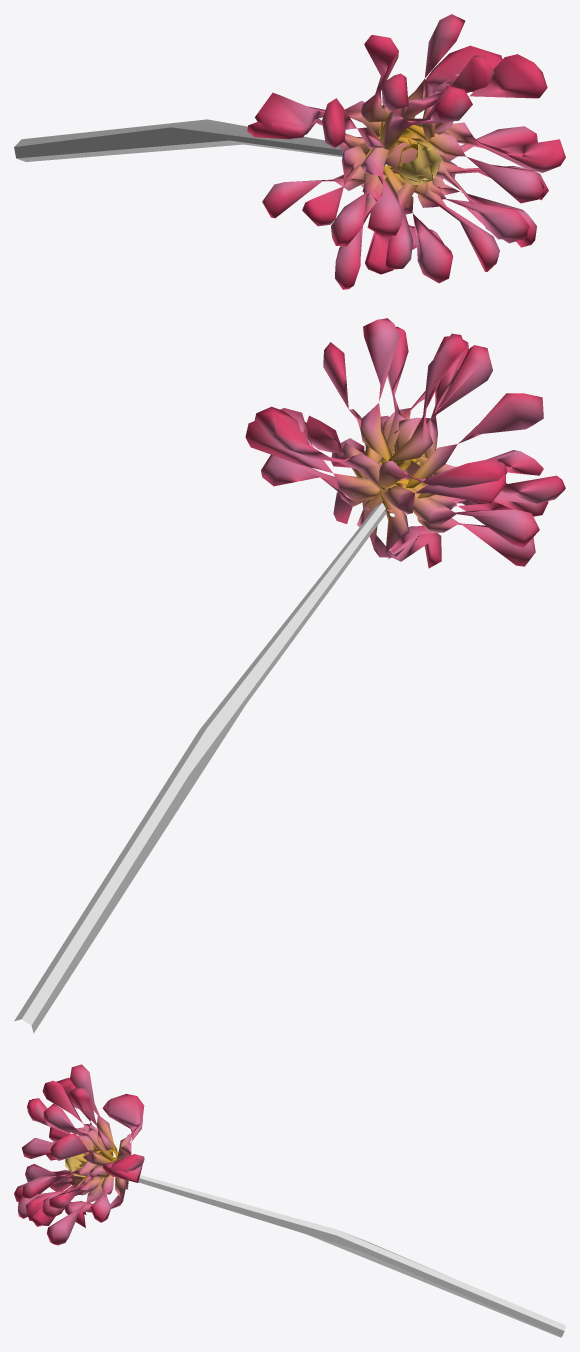
The picture shows the model from 3 angles, top to bottom: view 1: azimuth 30°, elevation 25°; view 2: azimuth 150°, elevation 25°; view 3: azimuth 270°, elevation 25°; orthographic projection. The views are drawn at different scales.
Parts seen in each view (by area): view 1: LOD 1_f2024c57-931d-5c86-9ae7-95641e97f6a6; view 2: LOD 1_f2024c57-931d-5c86-9ae7-95641e97f6a6; view 3: LOD 1_f2024c57-931d-5c86-9ae7-95641e97f6a6.
Part boxes in pixels (x1,y1,x2,y2): LOD 1_f2024c57-931d-5c86-9ae7-95641e97f6a6: [14, 14, 565, 289]; LOD 1_f2024c57-931d-5c86-9ae7-95641e97f6a6: [14, 318, 565, 1033]; LOD 1_f2024c57-931d-5c86-9ae7-95641e97f6a6: [14, 1064, 565, 1337].
Bounding box in the file's own units: 5.82 × 8.68 × 16.67.
